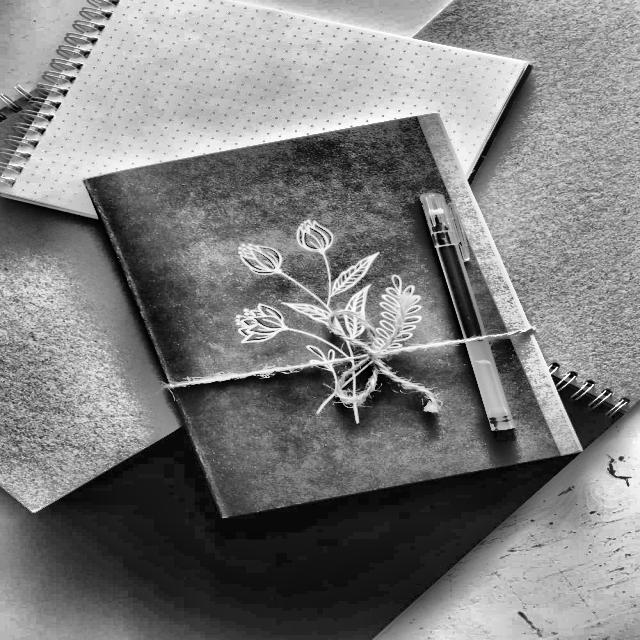Notebook: (73, 107, 595, 526)
Pen: (416, 191, 531, 448)
